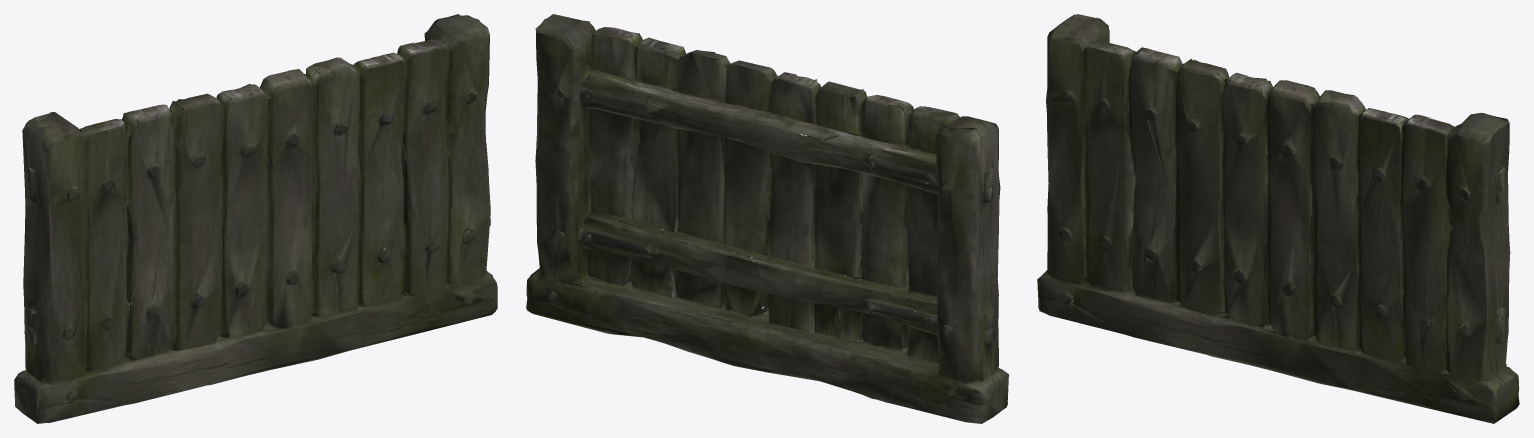
Rendered from town-gate-wing-straight.glb.
3 views of the same model, side by side, from view 1: azimuth 30°, elevation 25°; view 2: azimuth 150°, elevation 25°; view 3: azimuth 330°, elevation 25° (orthographic).
Visible parts, largest first — view 1: Mesh_0; view 2: Mesh_0; view 3: Mesh_0.
Part boxes in pixels (x1,y1,x2,y2): Mesh_0: (14,14,497,423); Mesh_0: (526,14,1008,423); Mesh_0: (1037,14,1519,423).
Size of the model in its own units: 1.9 by 1.15 by 0.2312.
1 material, 1 textured.
